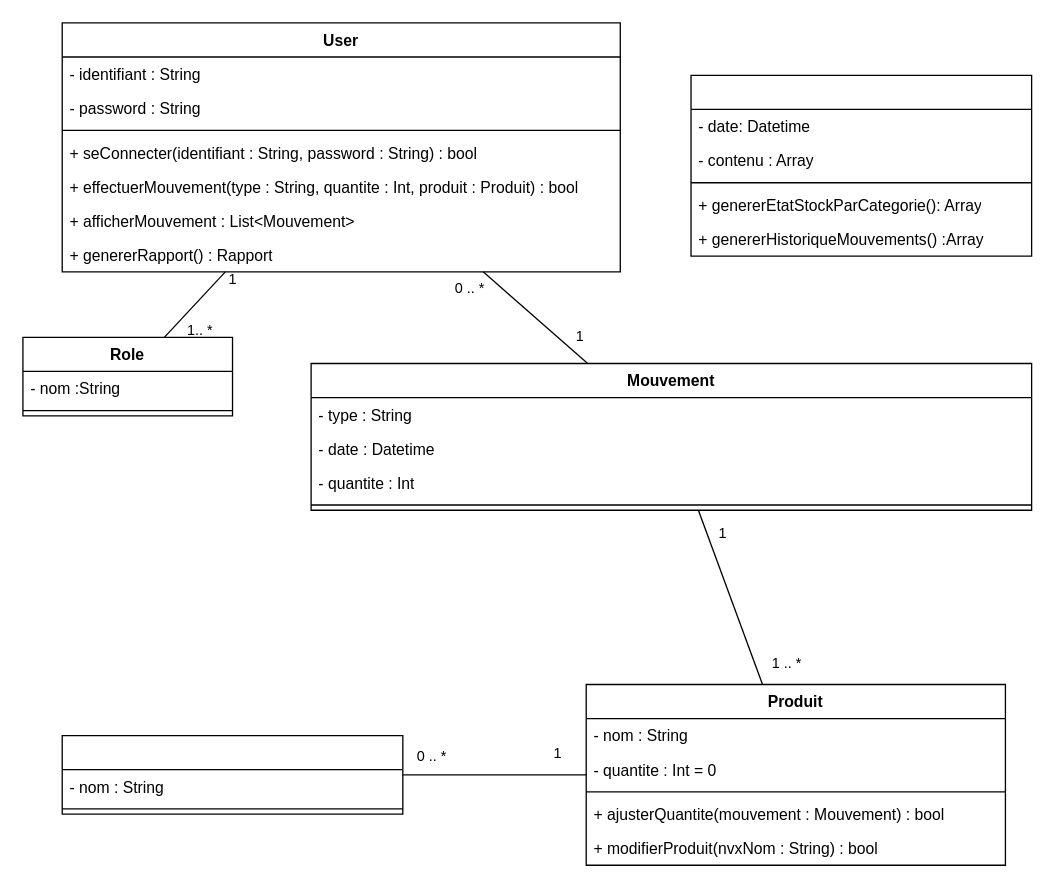
The diagram is 1055 pixels wide and 892 high, and some of its shapes have lost their labels. Here are the shapes that lost their labels. From the top down, the box of each, then its label:
(690, 74, 1032, 256): Rapport
(61, 734, 403, 814): Catégorie
